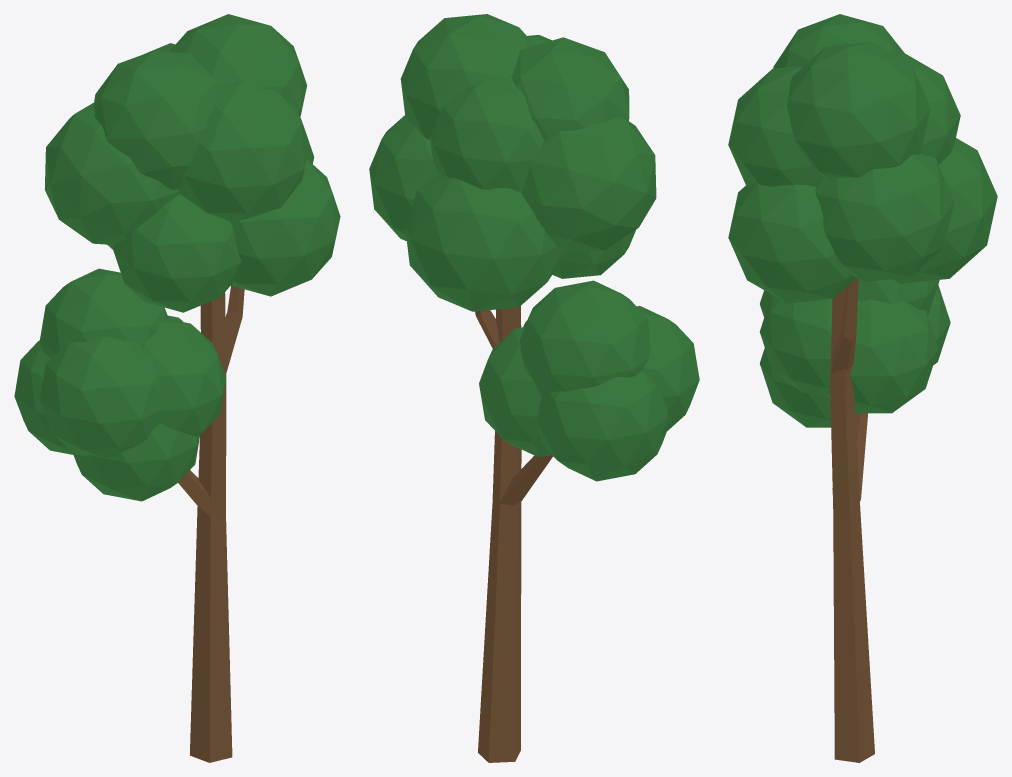
The model's file is tree.glb.
3 views of the same model, side by side, from view 1: azimuth 30°, elevation 25°; view 2: azimuth 150°, elevation 25°; view 3: azimuth 270°, elevation 25° (orthographic).
Parts seen in each view (by area): view 1: tree; view 2: tree; view 3: tree.
Part boxes in pixels (x1,y1,x2,y2): tree: (14,14,340,762); tree: (369,14,699,762); tree: (728,14,997,762).
Bounding box in the file's own units: 3.03 × 7.52 × 2.56.
1 material, 1 textured.
